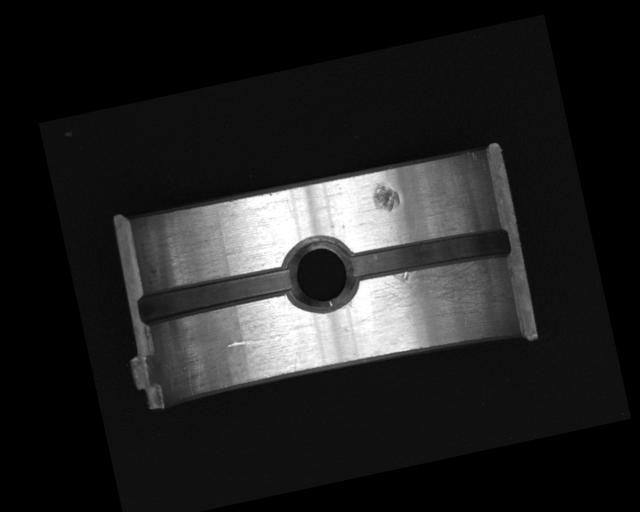bruise: (369, 178, 402, 215)
gap: (343, 219, 512, 291), (136, 262, 298, 329)
hole: (279, 231, 358, 319)
nick: (225, 331, 281, 352)
scratch: (352, 250, 510, 344)
